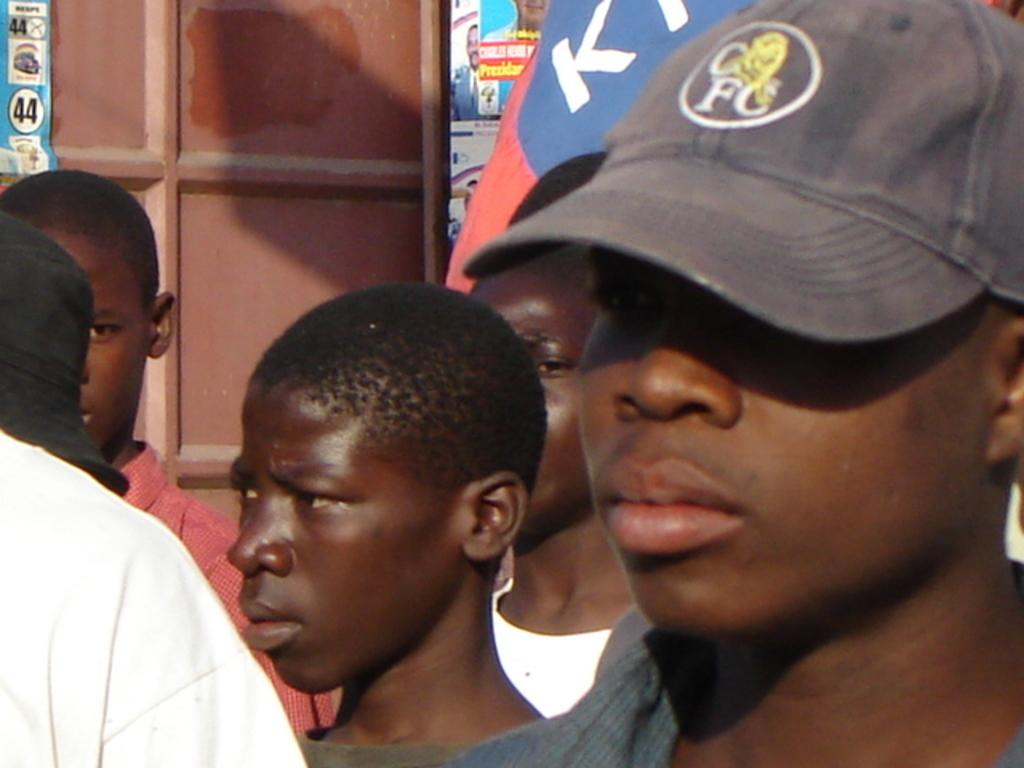Hat: (460, 0, 1022, 344)
